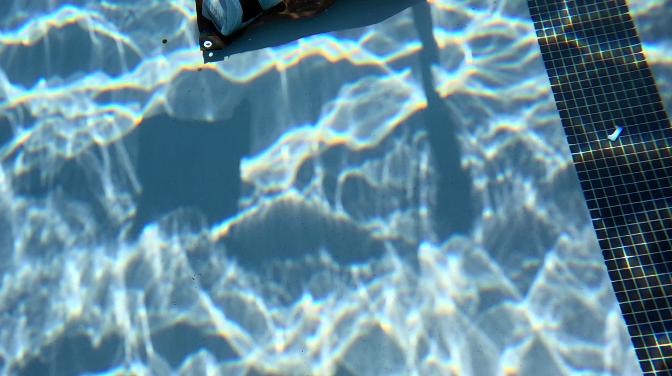sandbag: (195, 0, 336, 50)
